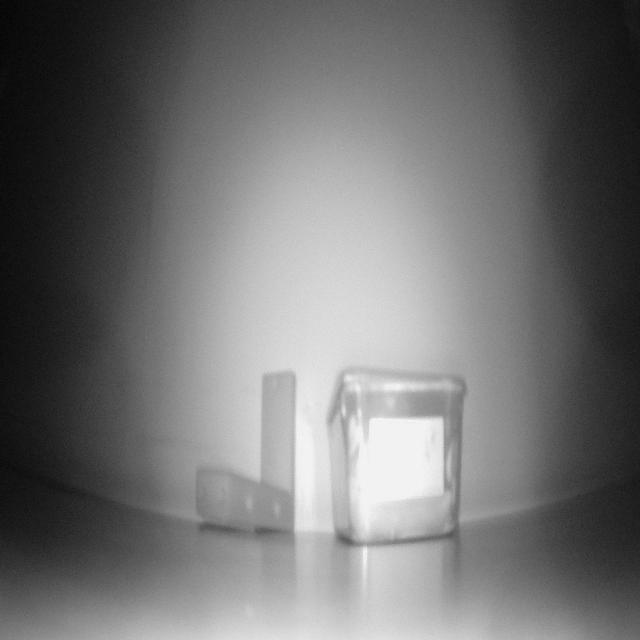targets: (324, 363, 467, 541), (192, 366, 294, 535)
